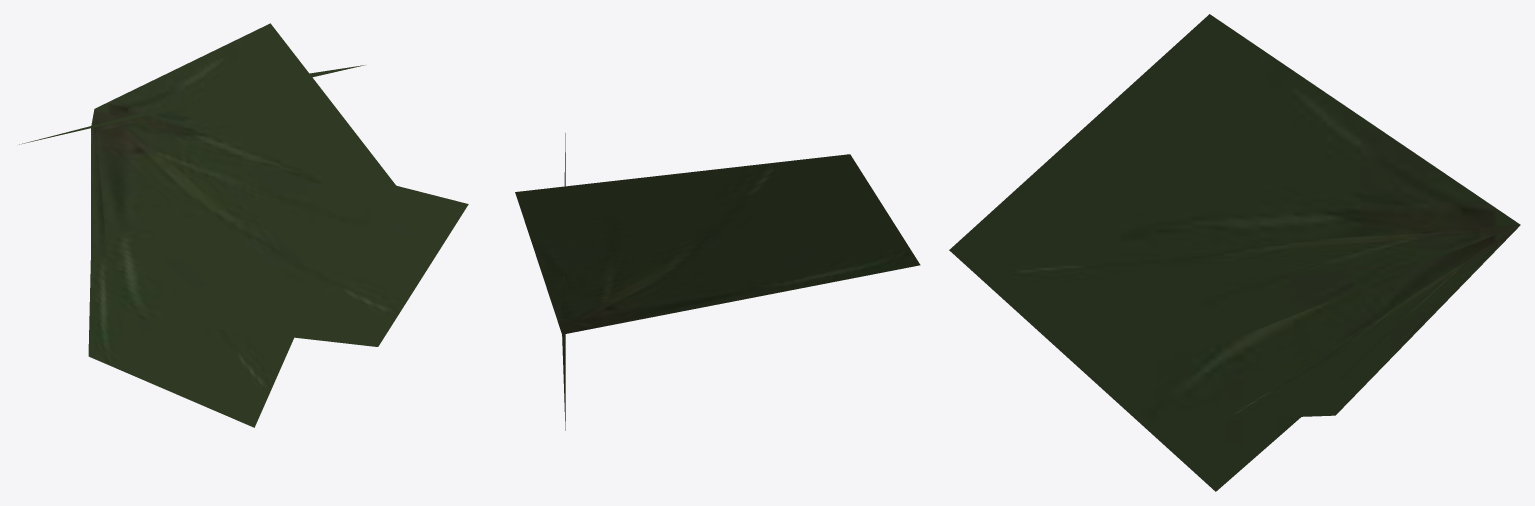
The model's file is brush_newgrasstuft_tallnarrow.glb.
3 renders of one model, left to right at view 1: azimuth 30°, elevation 25°; view 2: azimuth 150°, elevation 25°; view 3: azimuth 270°, elevation 25°, orthographic.
Bounding box in the file's own units: 23.98 × 28.06 × 30.43.
1 material, 1 textured.
